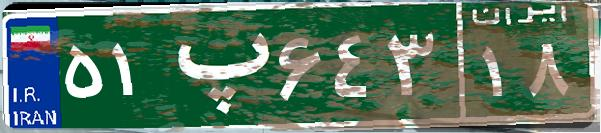1: (475, 38, 525, 113), (110, 28, 158, 105)
3: (385, 28, 445, 110)
4: (330, 28, 385, 110)
5: (57, 26, 110, 107)
6: (273, 28, 330, 110)
8: (525, 38, 570, 115)
پ: (158, 15, 273, 115)
